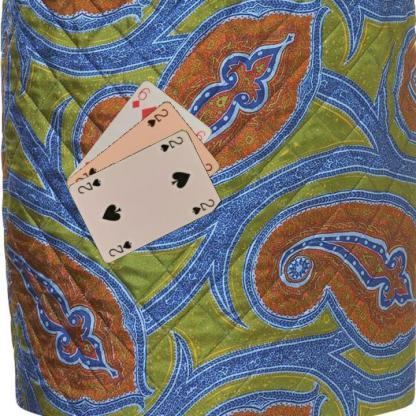2s: (144, 106, 170, 128), (158, 134, 184, 154), (106, 238, 132, 258)
6d: (130, 84, 152, 110)
